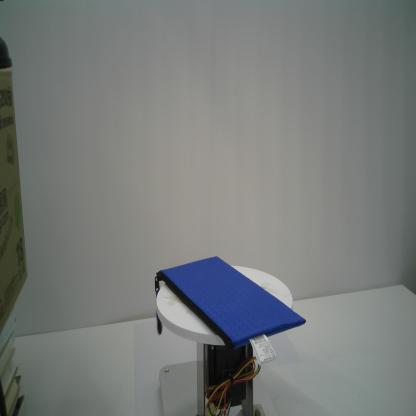Stationery: (153, 254, 307, 367)
